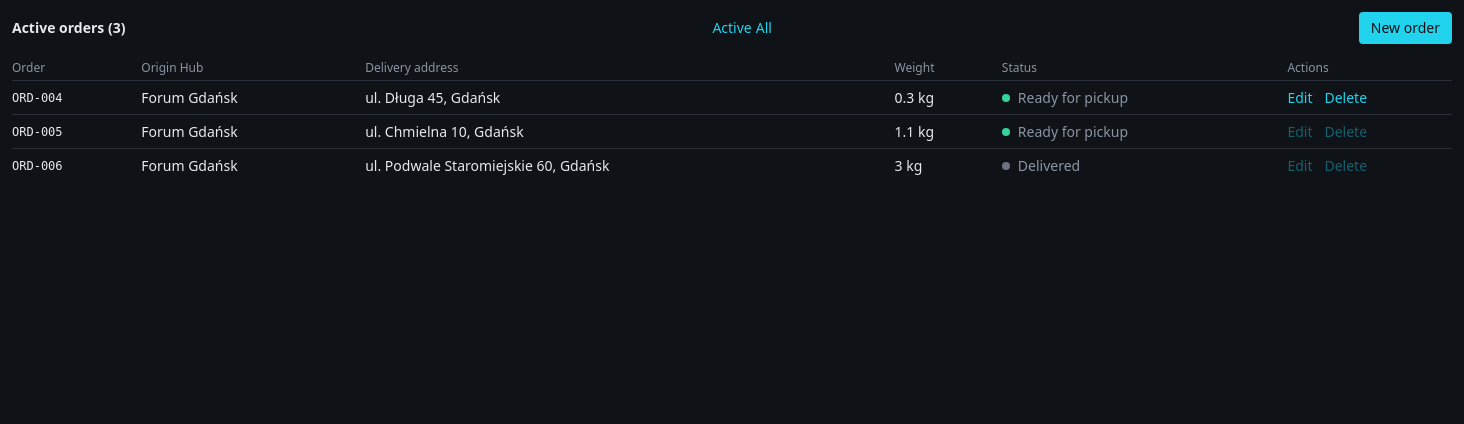
Test case: OrdersManager › creates an order, then refreshes the data and closes the form
Step 1. Click the button "New order" → (1405, 28), box left=1359, top=12, right=1452, bottom=44
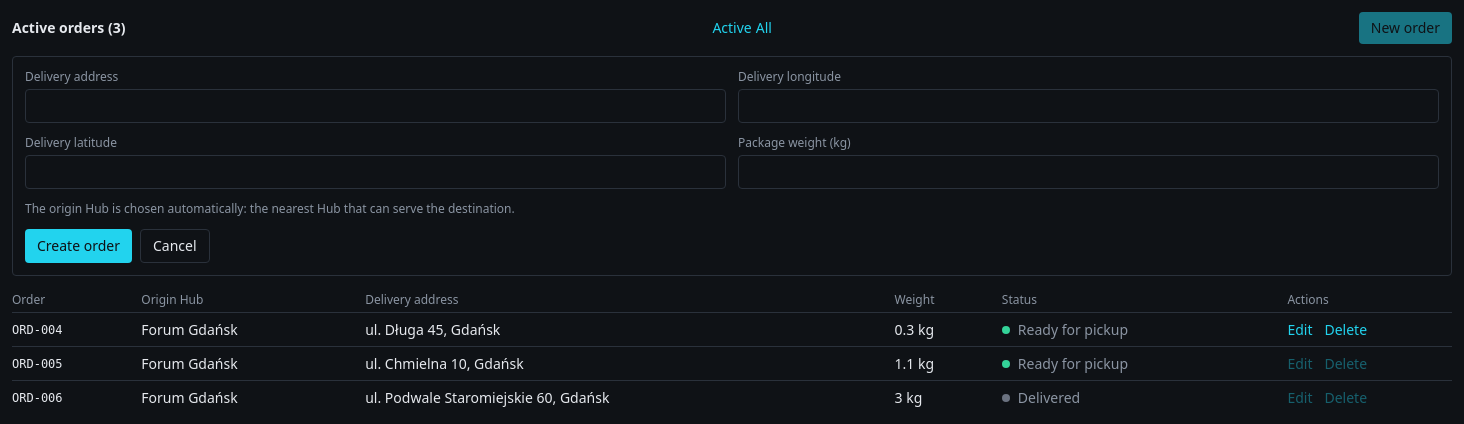
Step 2. Type "ul. Nowa 3" into the field labelled "Delivery address" → (376, 106), box left=25, top=89, right=726, bottom=123
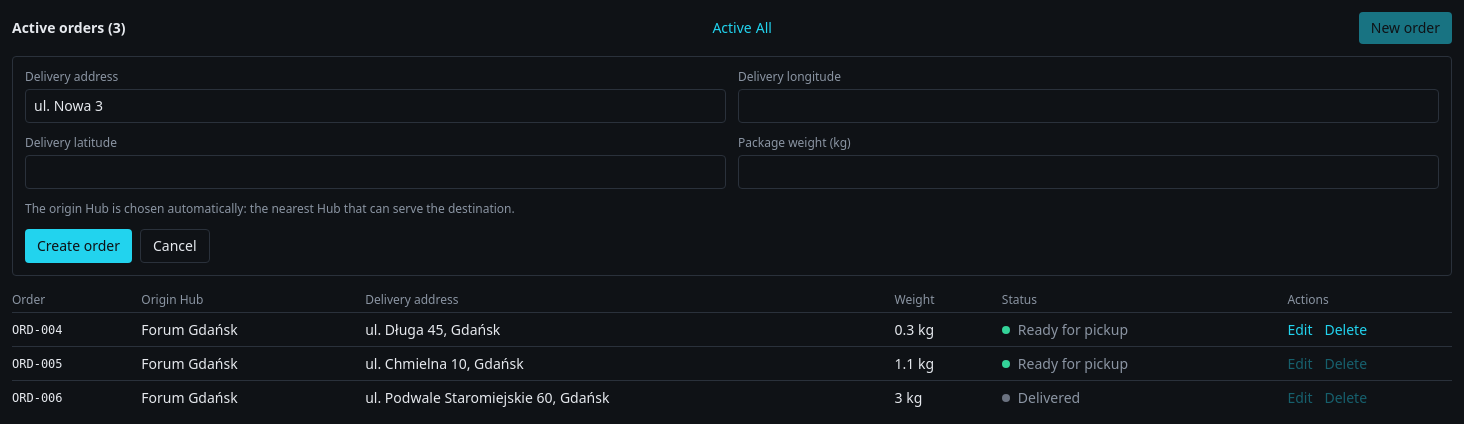
Step 3. Type "18.7" into the number field labelled "Delivery longitude" → (1088, 106), box left=738, top=89, right=1439, bottom=123
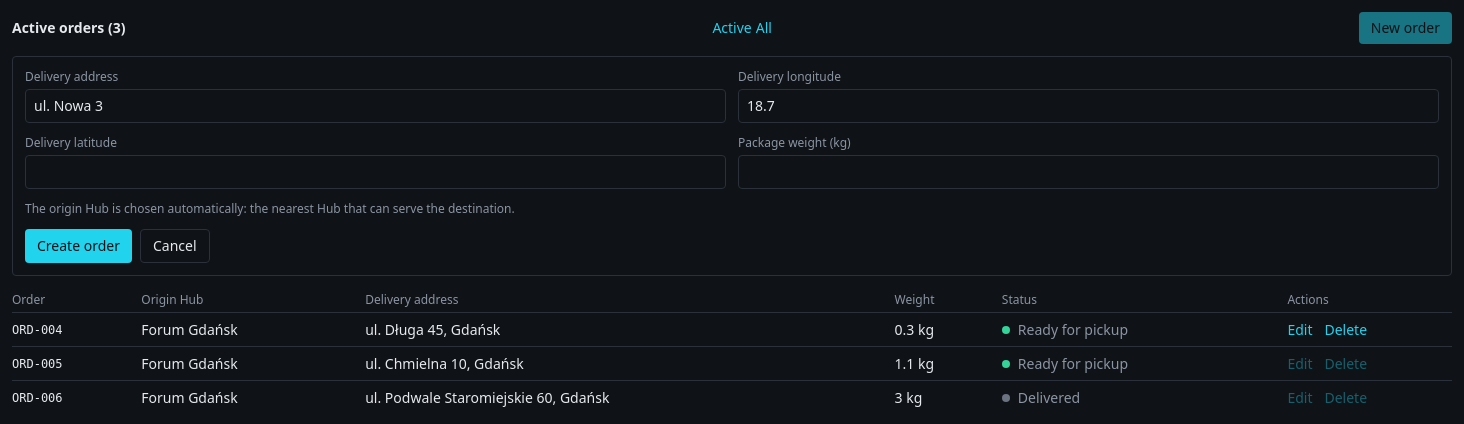
Step 4. Type "54.4" into the number field labelled "Delivery latitude" → (376, 172), box left=25, top=155, right=726, bottom=189
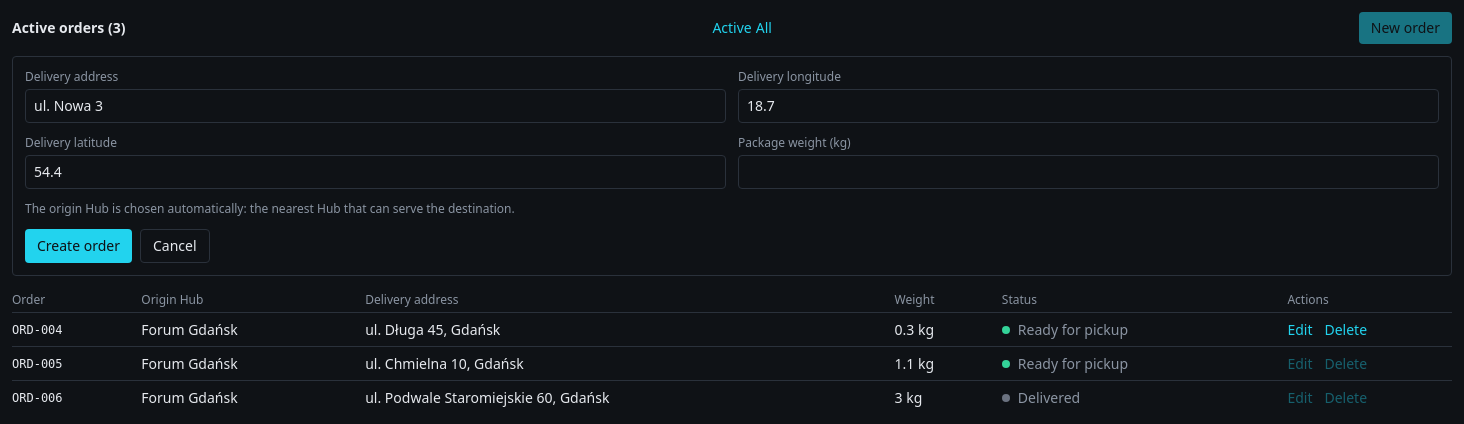
Step 5. Type "1.2" into the number field labelled "Package weight (kg)" → (1088, 172), box left=738, top=155, right=1439, bottom=189
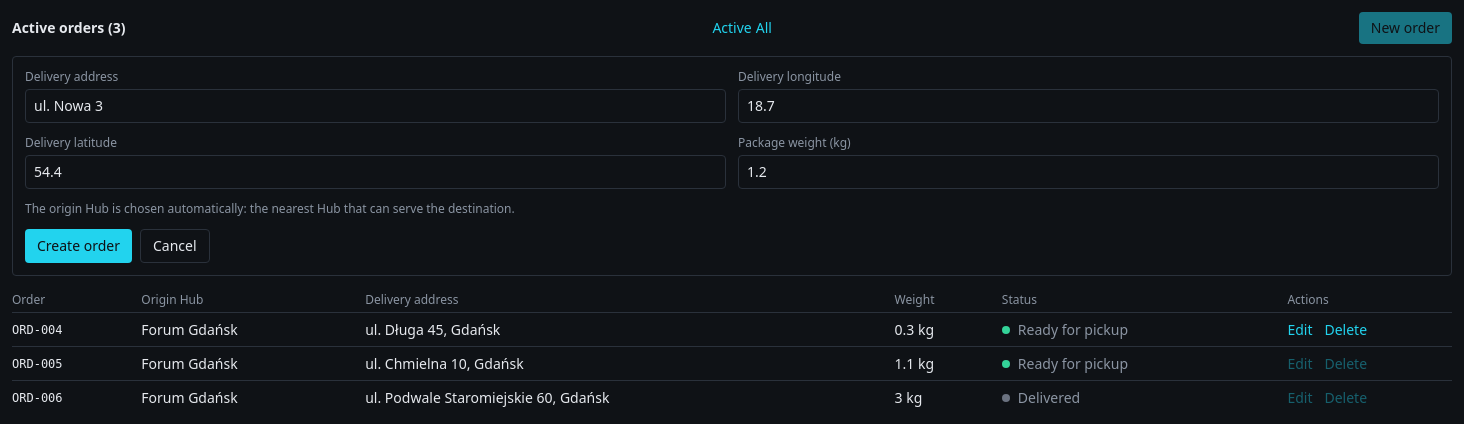
Step 6. Click the button "Create order" → (78, 246), box left=25, top=229, right=132, bottom=263
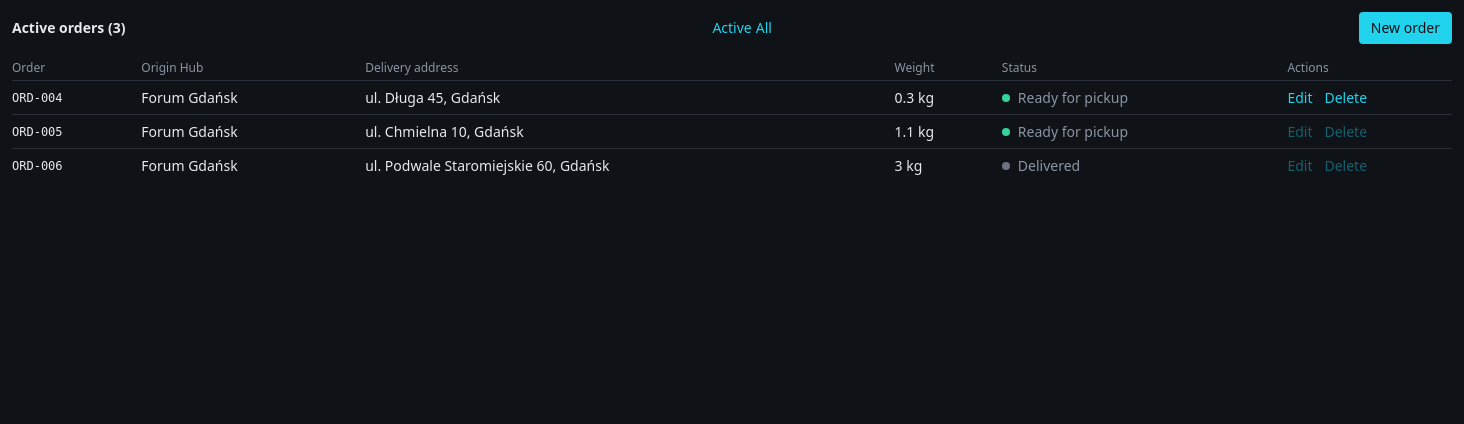
Expected: the button "Create order" is gone
